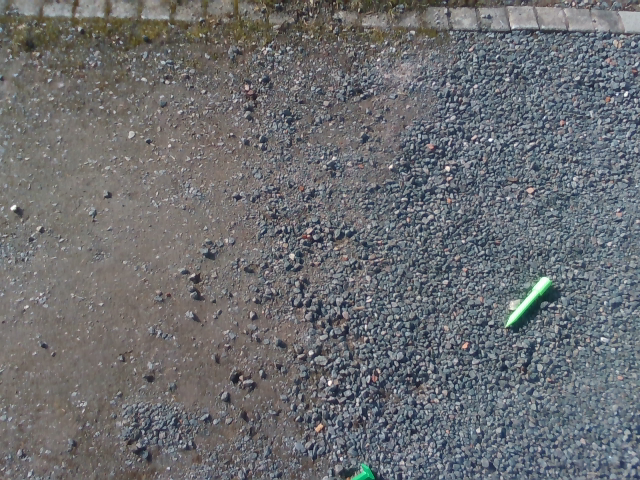Probe: (500, 273, 555, 330)
